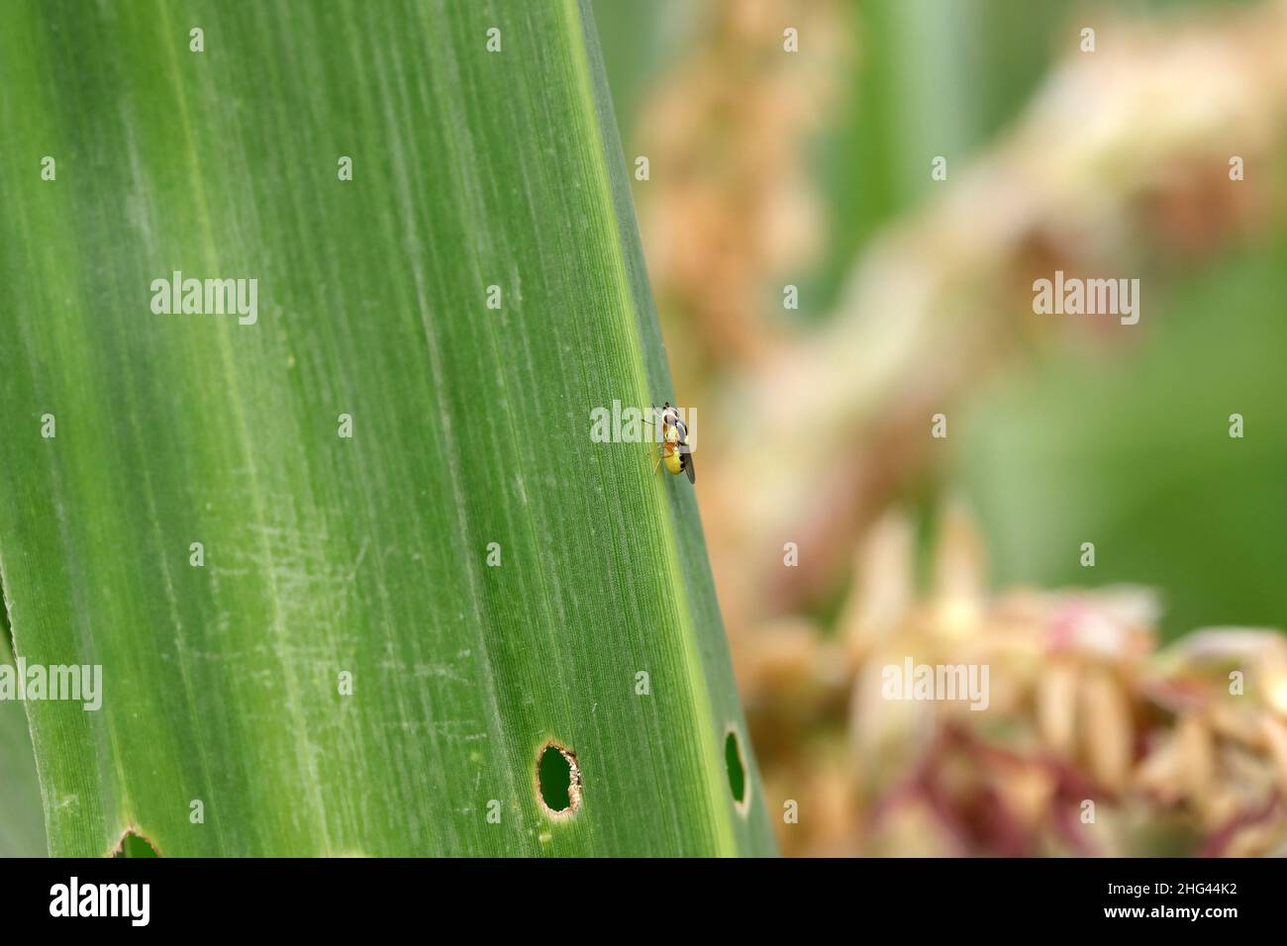Chloropidae: (641, 396, 694, 489)
